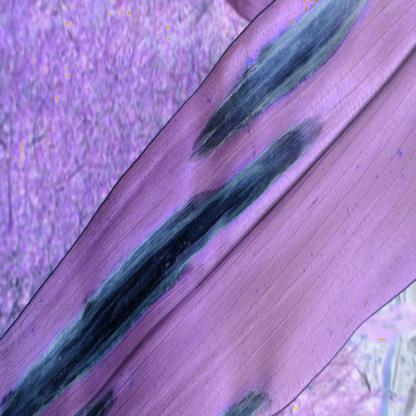corn leaf blight: (2, 3, 406, 411)
